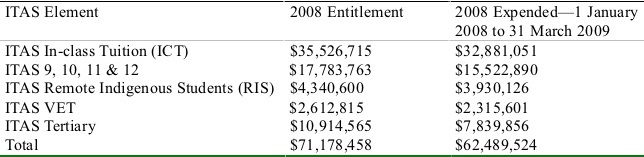column: (5, 1, 273, 157), (455, 1, 637, 157), (289, 2, 403, 157)
row: (1, 6, 644, 21), (1, 100, 644, 115), (2, 118, 644, 133), (1, 82, 644, 96), (2, 24, 644, 38), (1, 43, 642, 57), (1, 63, 643, 76), (2, 138, 644, 151)
